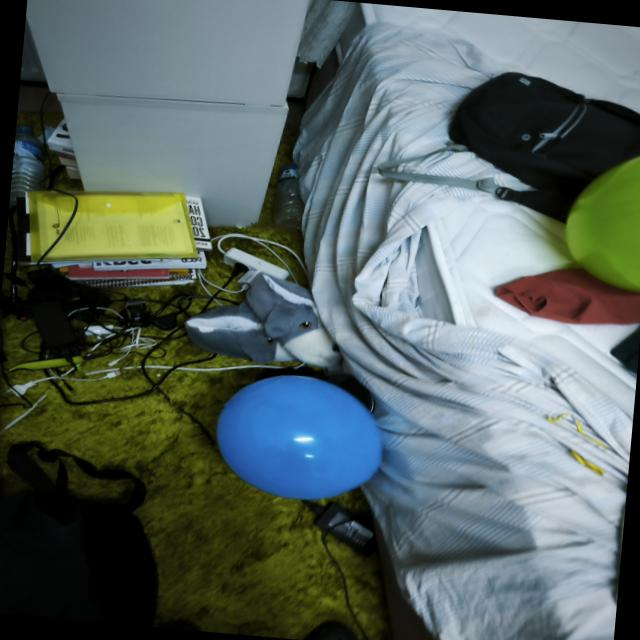balloon: (217, 376, 381, 499), (566, 156, 640, 292)
